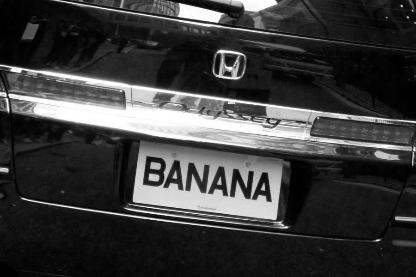license plate: (128, 131, 294, 238)
